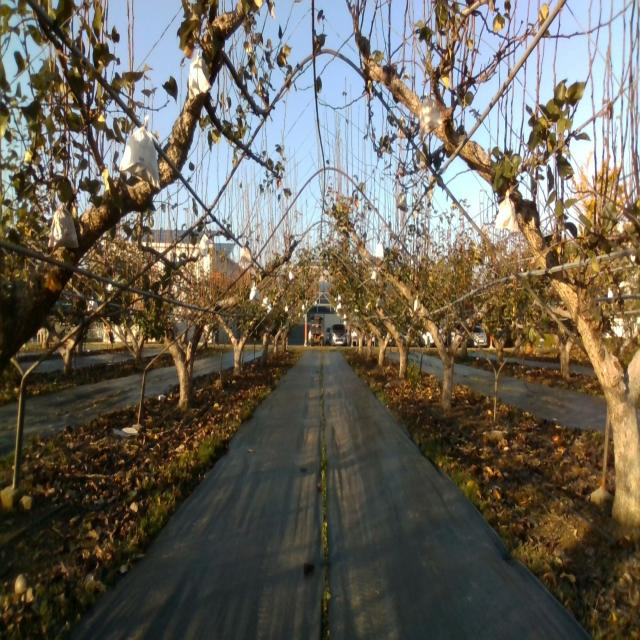pearbags: (118, 116, 159, 187), (48, 206, 79, 251), (492, 190, 520, 236), (186, 47, 210, 98), (418, 93, 442, 138), (396, 191, 407, 211), (239, 246, 251, 264)
